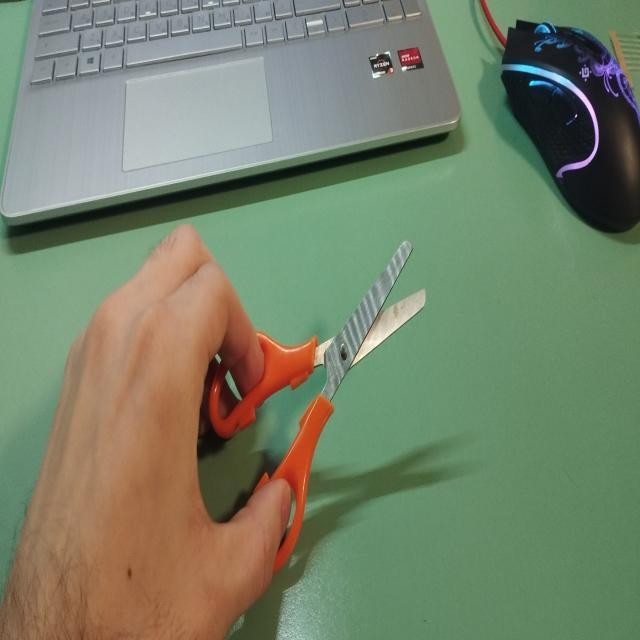tesoura: (204, 234, 432, 580)
